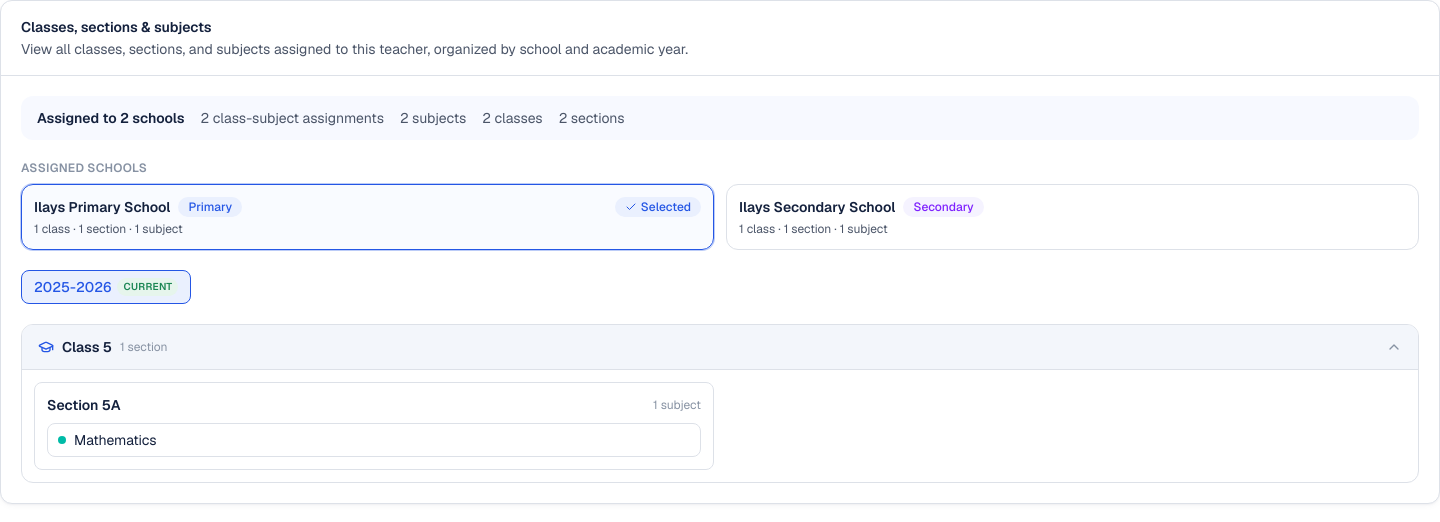
Test: AssignmentsManager — Super Admin, multiple schools › switching to another school shows only that school's classes, never mixed with the first
Click the text "Ilays Secondary School".
click(817, 207)  # box x1=739 y1=197 x2=895 y2=217
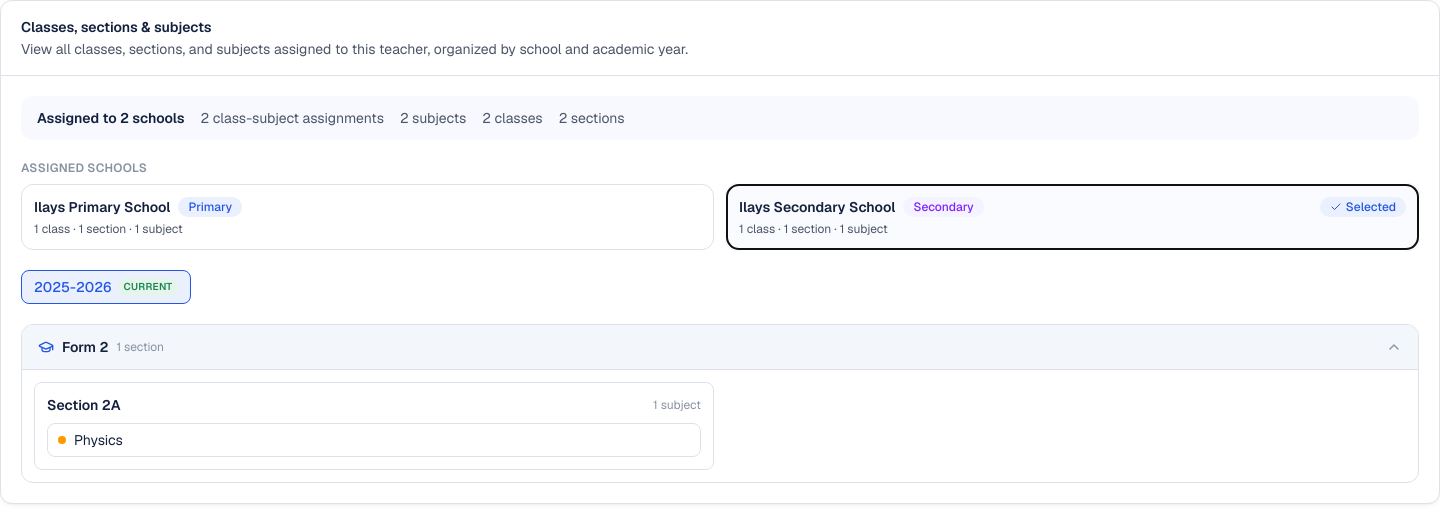
Check: the text "Form 2" is shown, box x1=62 y1=337 x2=108 y2=357
Check: the text "Physics" is shown, box x1=74 y1=430 x2=123 y2=450
Check: the button "Class 5" is gone
